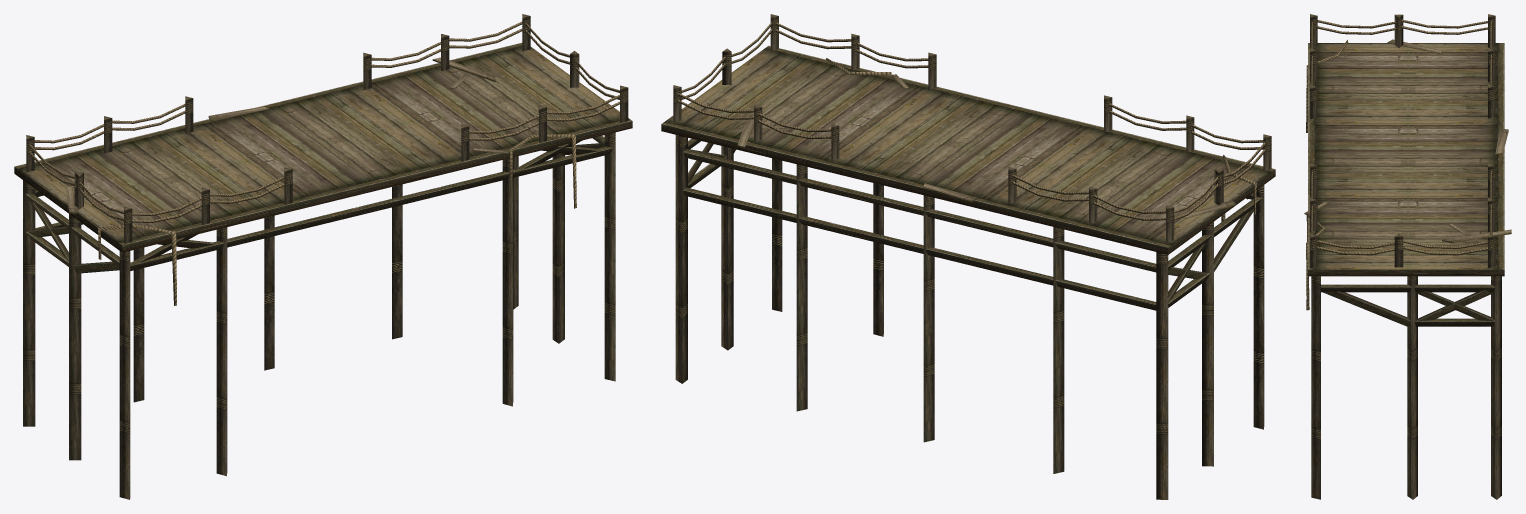
Rendered from matou_xy_40.FBX.
3 renders of one model, left to right at view 1: azimuth 30°, elevation 25°; view 2: azimuth 150°, elevation 25°; view 3: azimuth 270°, elevation 25°, orthographic. The views are drawn at different scales.
Parts seen in each view (by area): view 1: matou_xy_40; view 2: matou_xy_40; view 3: matou_xy_40.
Part boxes in pixels (x1=…): matou_xy_40: x1=14, y1=14, x2=632, y2=499; matou_xy_40: x1=661, y1=14, x2=1275, y2=499; matou_xy_40: x1=1304, y1=14, x2=1511, y2=499.
Size of what is drawn, in the model's own units: 3038 by 1637 by 1162.
